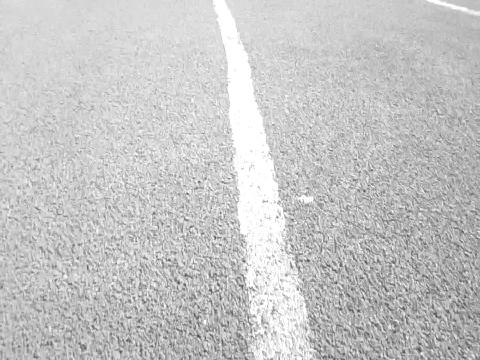Lines: (211, 0, 319, 360)
